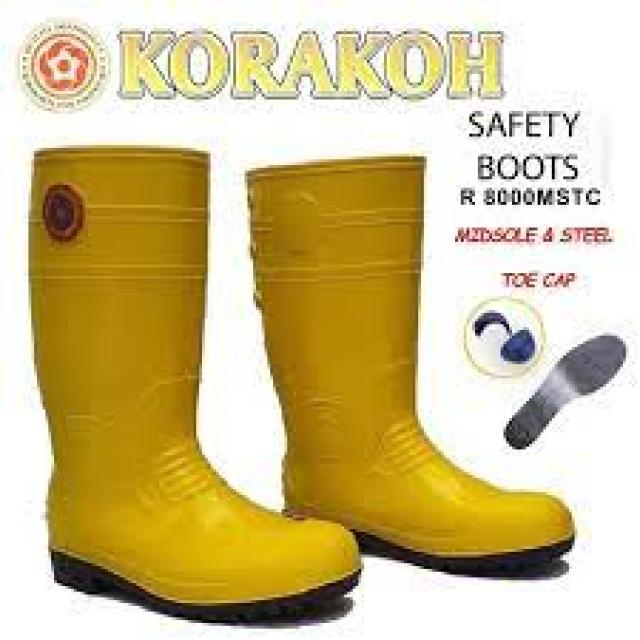shoes: (29, 148, 572, 618)
